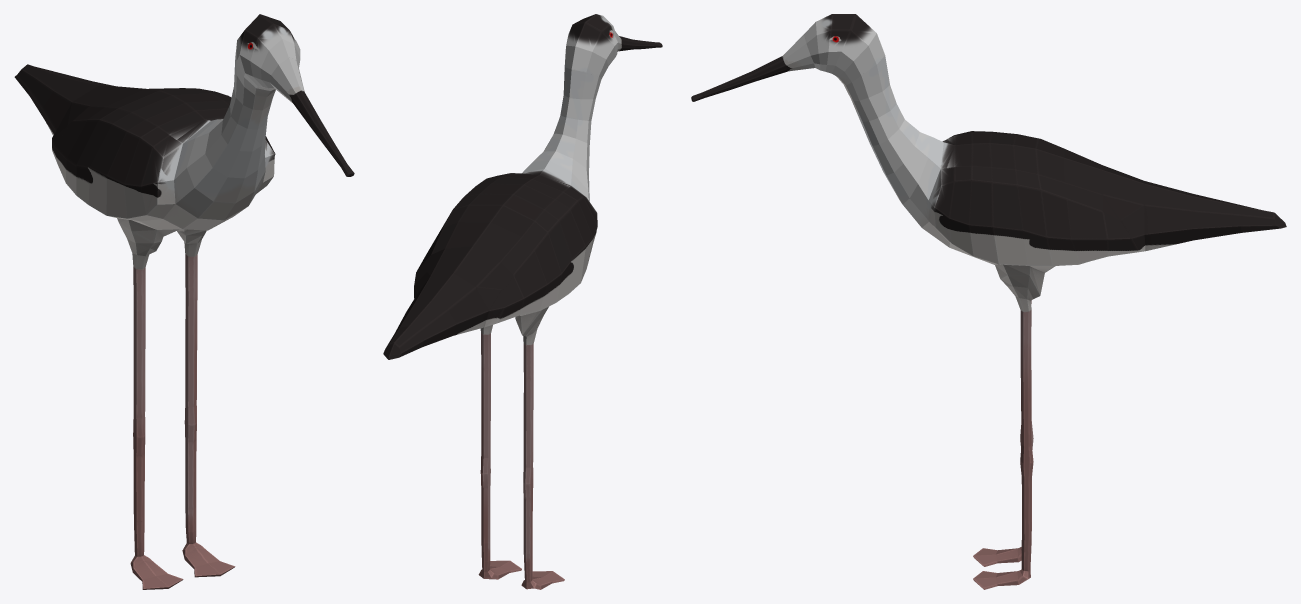
Rendered from BlackNeckedStilt.glb.
3 views of the same model, side by side, from view 1: azimuth 30°, elevation 25°; view 2: azimuth 150°, elevation 25°; view 3: azimuth 270°, elevation 25° (orthographic). The views are drawn at different scales.
Visible parts, largest first — view 1: node-0.001; view 2: node-0.001; view 3: node-0.001.
Part boxes in pixels (x1=…): node-0.001: x1=14, y1=14, x2=354, y2=589; node-0.001: x1=383, y1=14, x2=662, y2=589; node-0.001: x1=691, y1=14, x2=1286, y2=589.
Size of the model in its own units: 2.71 by 10.29 by 9.99.
1 material, 1 textured.
